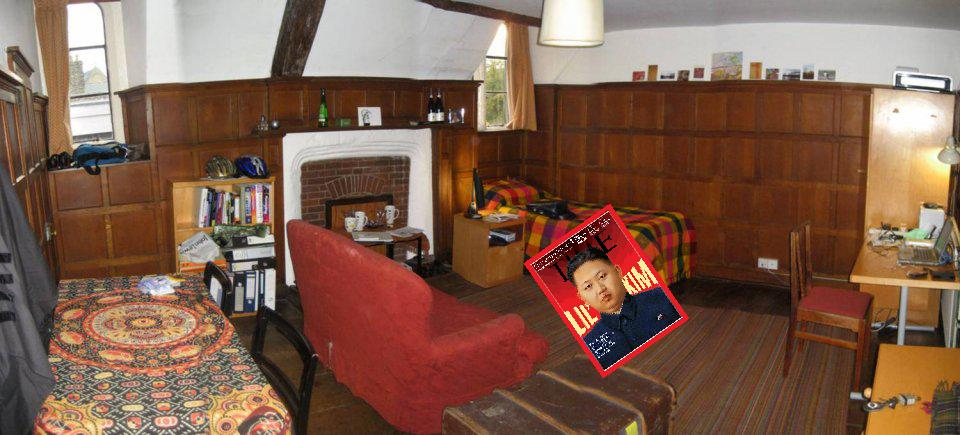times: (522, 204, 690, 376)
